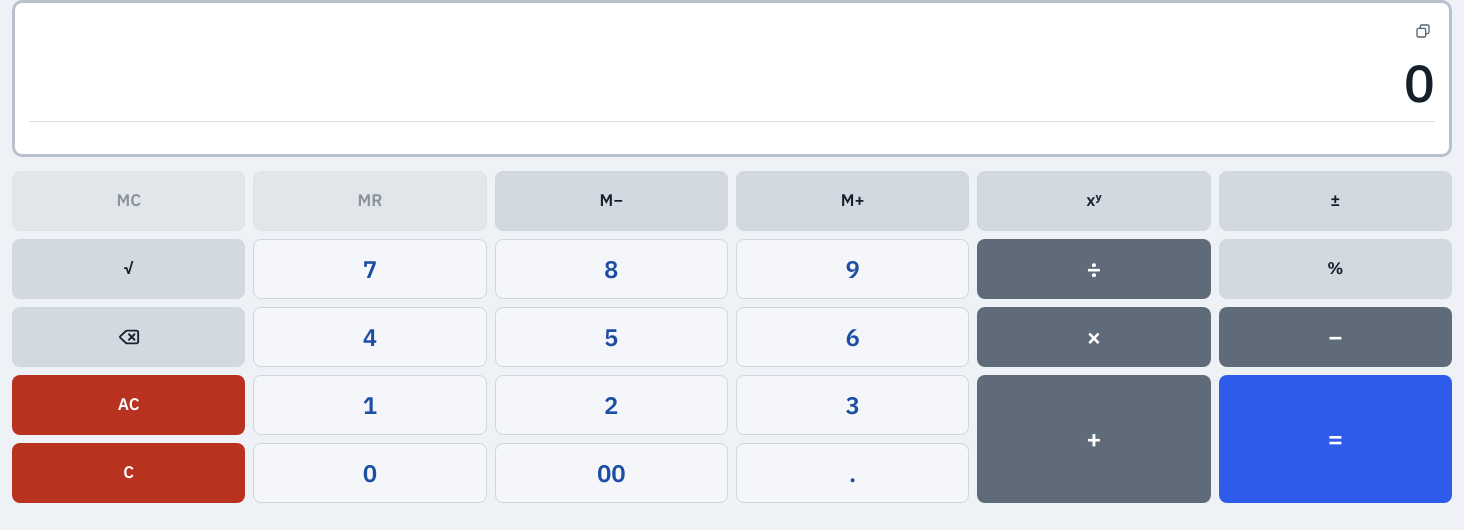
Test: Calculator › adds two numbers through the API
This screenshot has width=1464, height=530.
Step 1. Click the button "2" → x=611, y=405, box [495, 375, 728, 435]
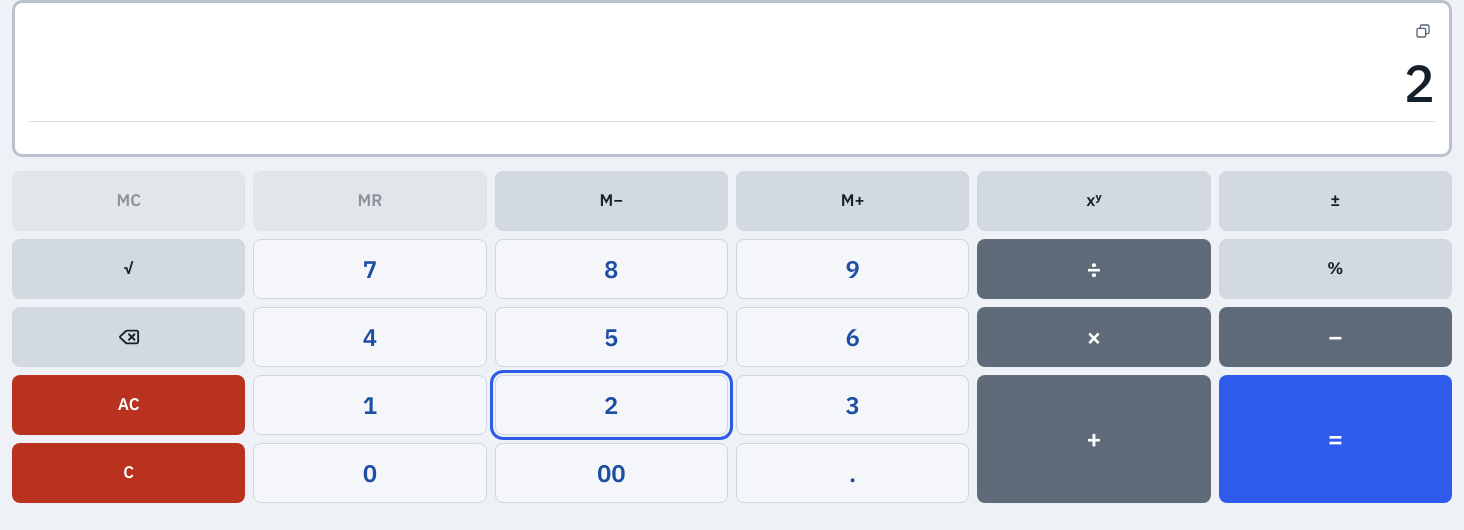
Step 2. Click the button named "Add" → x=1094, y=439, box [977, 375, 1211, 503]
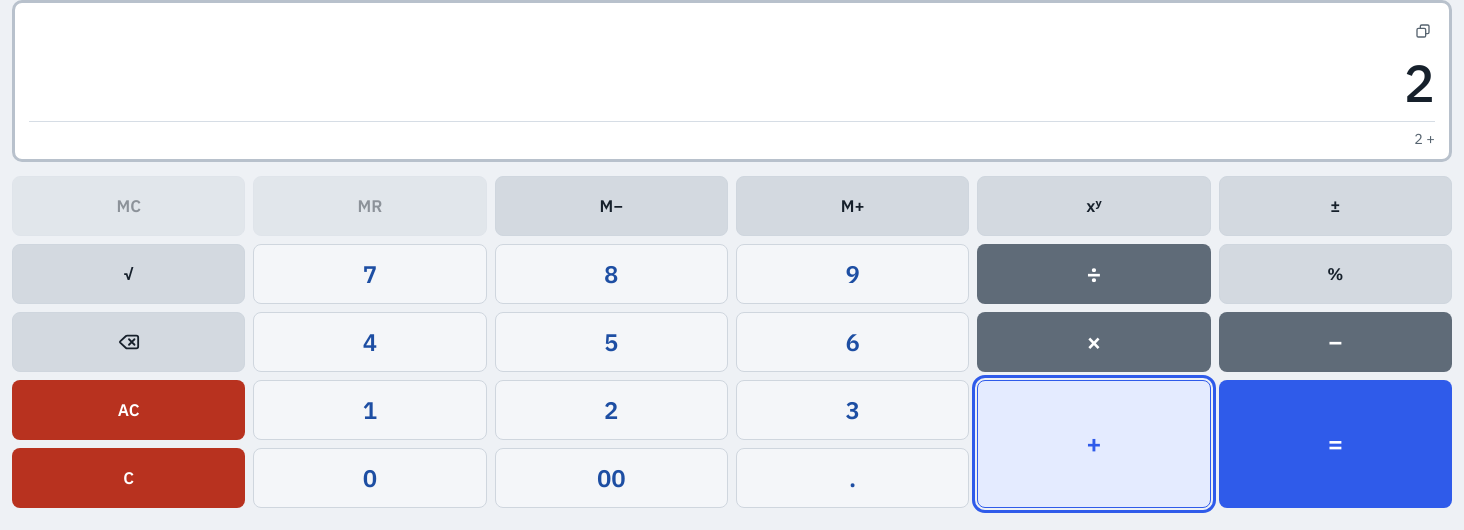
Step 3. Click the button "3" → x=853, y=410, box [736, 380, 969, 440]
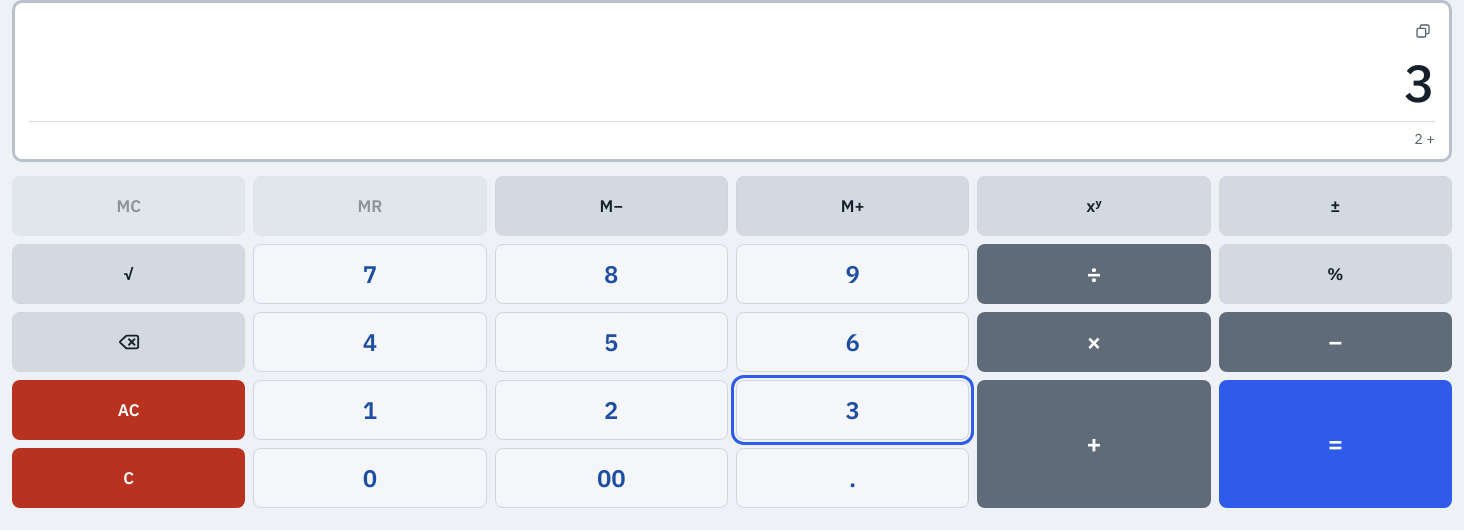
Step 4. Click the button named "Equals" → x=1335, y=444, box [1219, 380, 1452, 508]
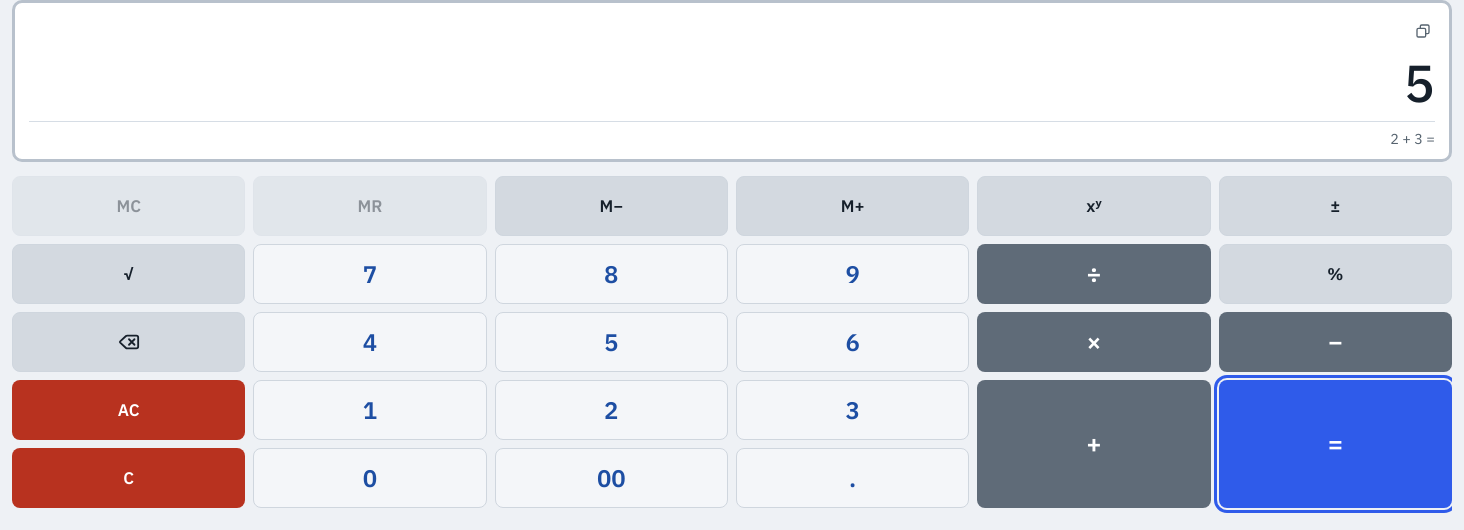
Check: the text with test id "result" reads "5", box [1404, 49, 1435, 116]
Check: the text with test id "expression" reads "2 + 3 =", box [1390, 129, 1435, 148]
